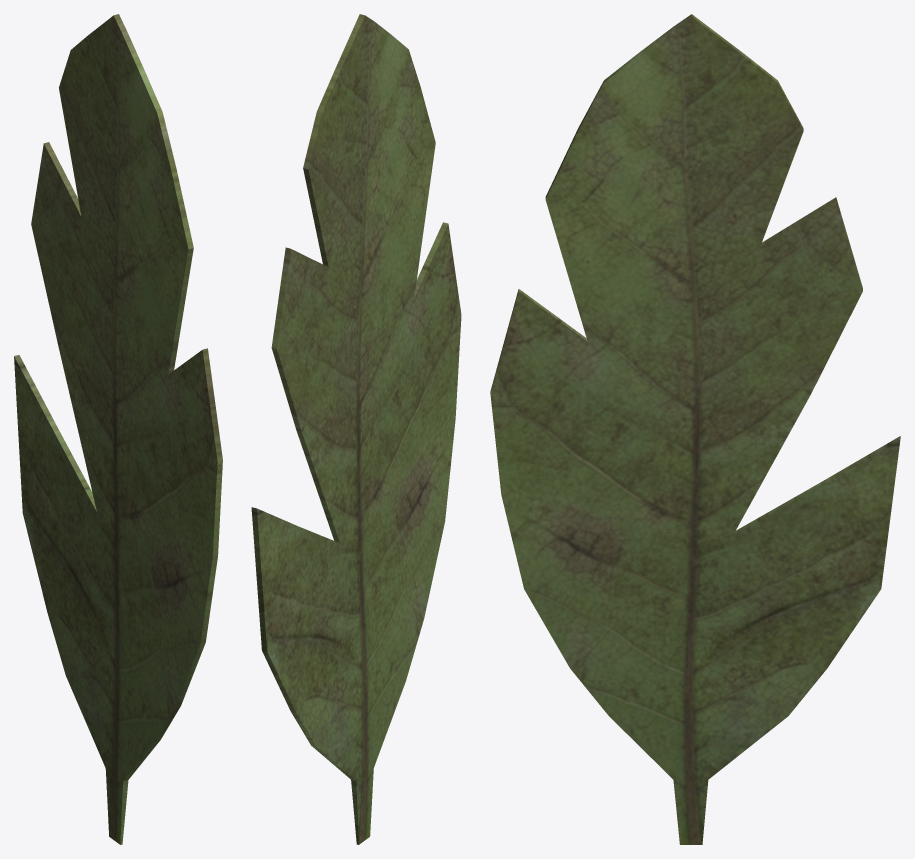
File: Leaf2Complete.fbx
The picture shows the model from 3 angles, left to right: view 1: azimuth 30°, elevation 25°; view 2: azimuth 150°, elevation 25°; view 3: azimuth 270°, elevation 25°; orthographic projection.
Parts seen in each view (by area): view 1: leaf2; view 2: leaf2; view 3: leaf2.
Part boxes in pixels (x1,y1,x2,y2): leaf2: (14, 14, 222, 844); leaf2: (251, 14, 461, 844); leaf2: (490, 14, 900, 844).
Bounding box in the file's own units: 0.4342 × 35.4 × 15.86.
